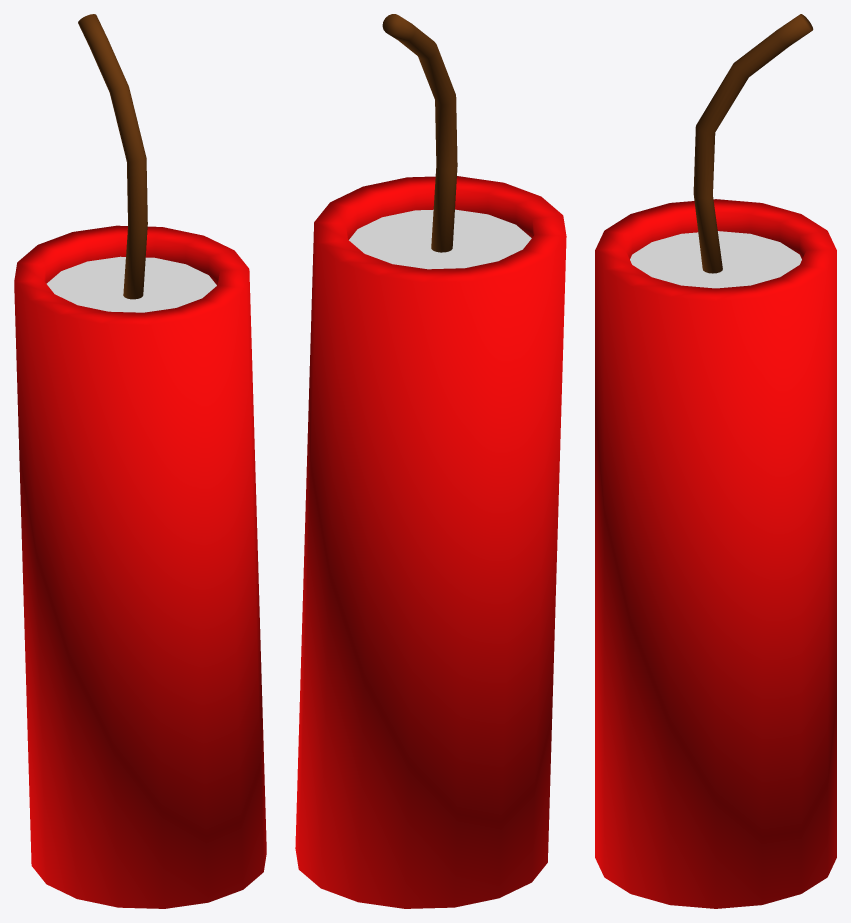
File: Dynamite.fbx
The picture shows the model from 3 angles, left to right: view 1: azimuth 30°, elevation 25°; view 2: azimuth 150°, elevation 25°; view 3: azimuth 270°, elevation 25°; orthographic projection. The views are drawn at different scales.
Visible parts, largest first — view 1: Dynamite; view 2: Dynamite; view 3: Dynamite.
Part boxes in pixels (x1,y1,x2,y2): Dynamite: [14, 14, 266, 908]; Dynamite: [295, 14, 566, 908]; Dynamite: [595, 14, 836, 908].
Size of the model in its own units: 0.3967 by 0.3657 by 1.39.
